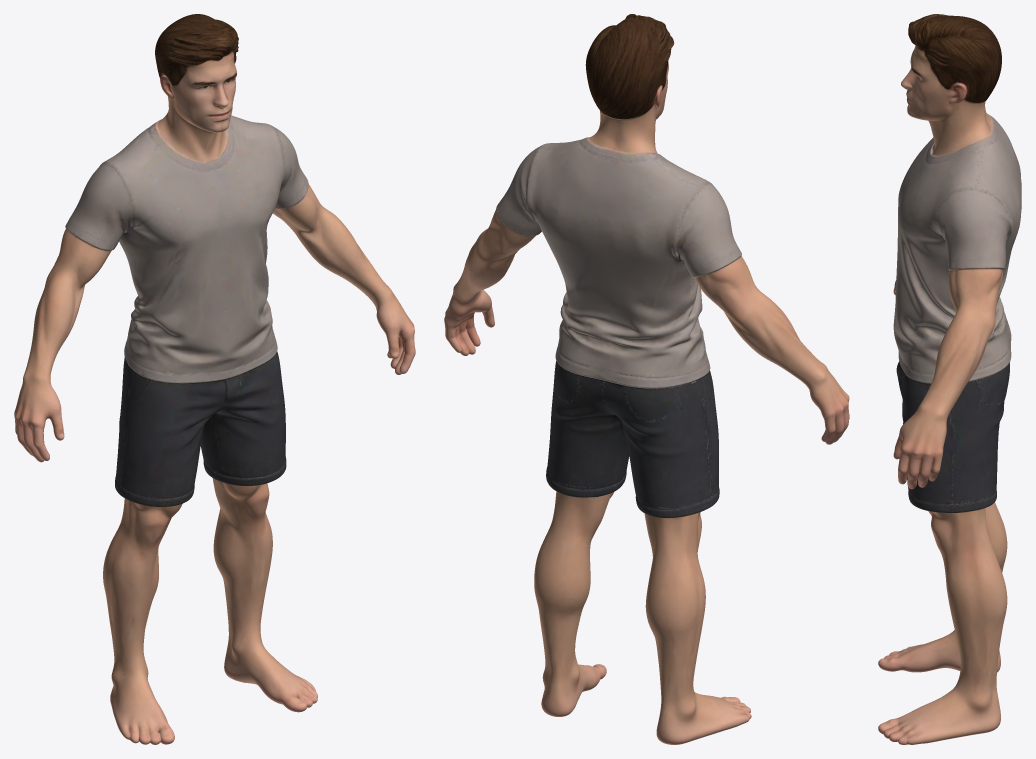
The model's file is human.glb.
The picture shows the model from 3 angles, left to right: view 1: azimuth 30°, elevation 25°; view 2: azimuth 150°, elevation 25°; view 3: azimuth 270°, elevation 25°; orthographic projection.
Visible parts, largest first — view 1: man-base-character; view 2: man-base-character; view 3: man-base-character.
Part boxes in pixels (x1,y1,x2,y2): man-base-character: (14,14,415,744); man-base-character: (444,14,849,744); man-base-character: (878,14,1021,744).
Bounding box in the file's own units: 1.08 × 1.8 × 0.3418.
Materials: 1 (1 with a texture image).
